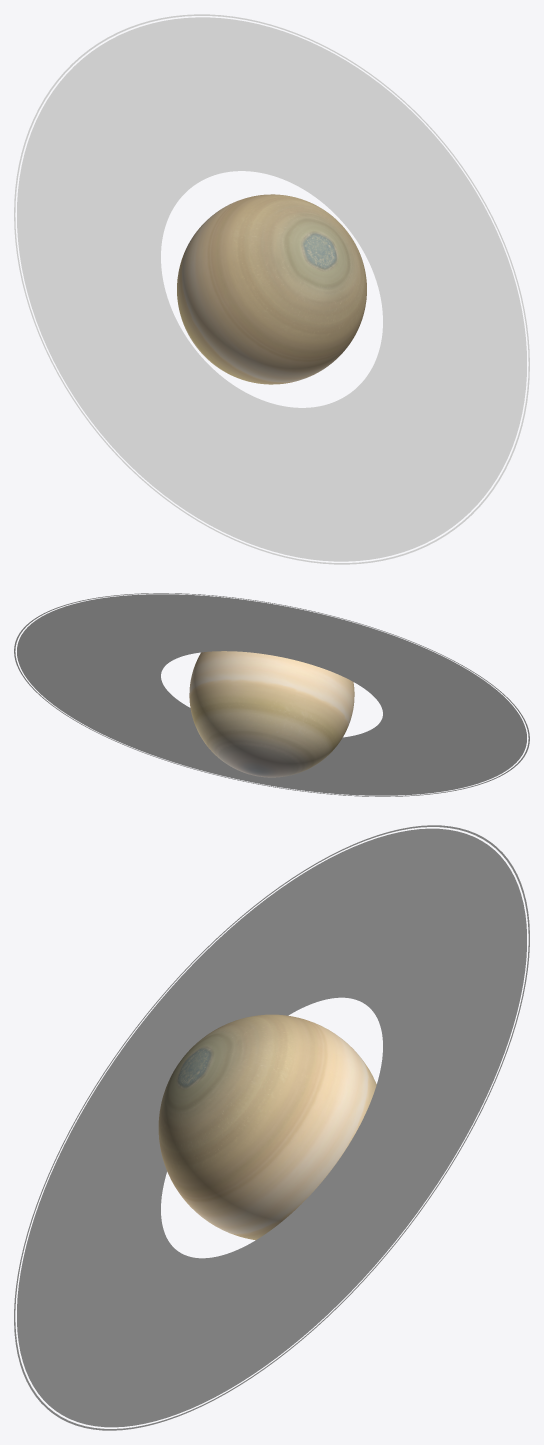
Rendered from scene_saturn.gltf.
3 views of the same model, one above another, from view 1: azimuth 30°, elevation 25°; view 2: azimuth 150°, elevation 25°; view 3: azimuth 270°, elevation 25° (orthographic). The views are drawn at different scales.
Visible parts, largest first — view 1: ring, saturn; view 2: ring, saturn; view 3: ring, saturn.
Boxes of the visible parts, left/top/right/bottom form: ring: left=14, top=14, right=529, bottom=564; saturn: left=177, top=194, right=366, bottom=384; ring: left=14, top=593, right=529, bottom=796; saturn: left=189, top=651, right=354, bottom=777; ring: left=14, top=825, right=529, bottom=1430; saturn: left=158, top=1014, right=376, bottom=1240.
Size of the model in its own units: 67.03 by 49.53 by 48.99.
